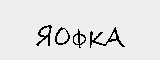А: (102, 25, 125, 50)
К: (88, 28, 106, 51)
О: (54, 25, 71, 48)
Ф: (70, 27, 88, 51)
Я: (35, 22, 52, 49)
